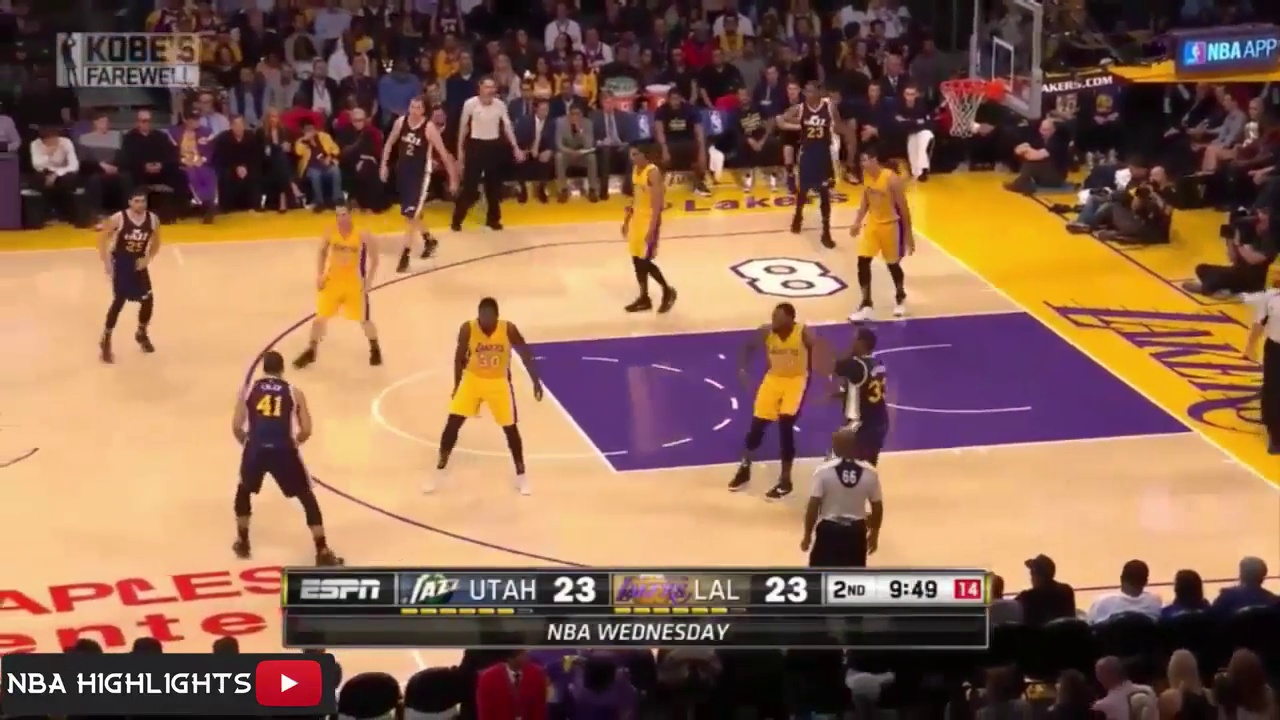jazz: (205, 337, 351, 564), (95, 188, 170, 357), (385, 96, 458, 268), (779, 82, 847, 248), (834, 328, 906, 468)
lakers: (431, 293, 536, 492), (723, 296, 816, 495), (300, 198, 394, 374), (852, 147, 923, 322), (613, 136, 675, 322)
